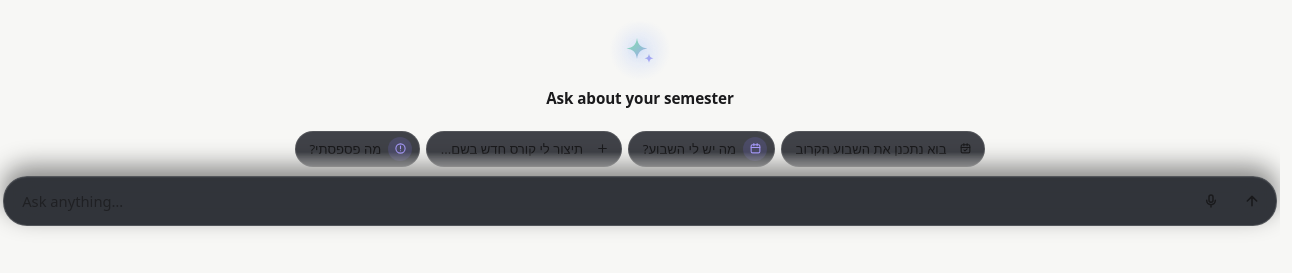
Test: AgentPanel › renders replies as text, not HTML
The image size is (1292, 273).
Click the button "מה פספסתי?": (357, 149) [295, 131, 420, 167]
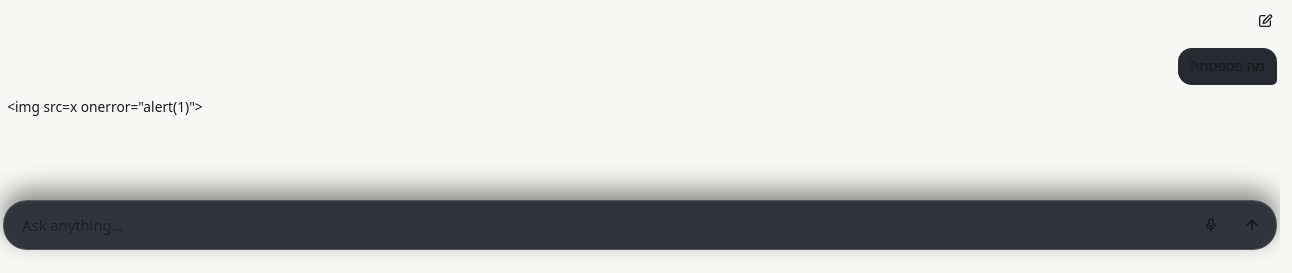
Now the text "<img src=x onerror=\"alert(1)\">" is shown, box [7, 97, 203, 116]
